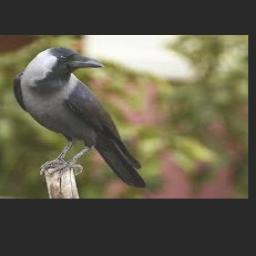Crow: (14, 46, 147, 188)
